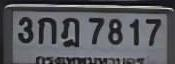1: (129, 18, 139, 46)
3: (18, 17, 33, 43)
7: (88, 17, 104, 44), (145, 18, 160, 45)
8: (108, 19, 123, 45)
A01: (37, 17, 56, 44)
A14: (61, 18, 80, 48)
